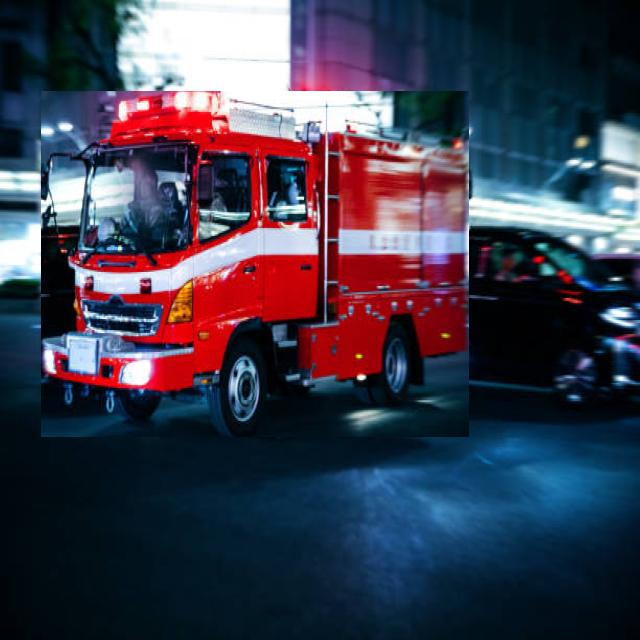emergency: (41, 92, 469, 437)
